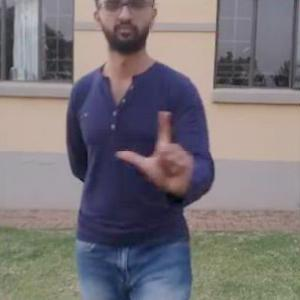land_hand: (115, 104, 195, 194)
